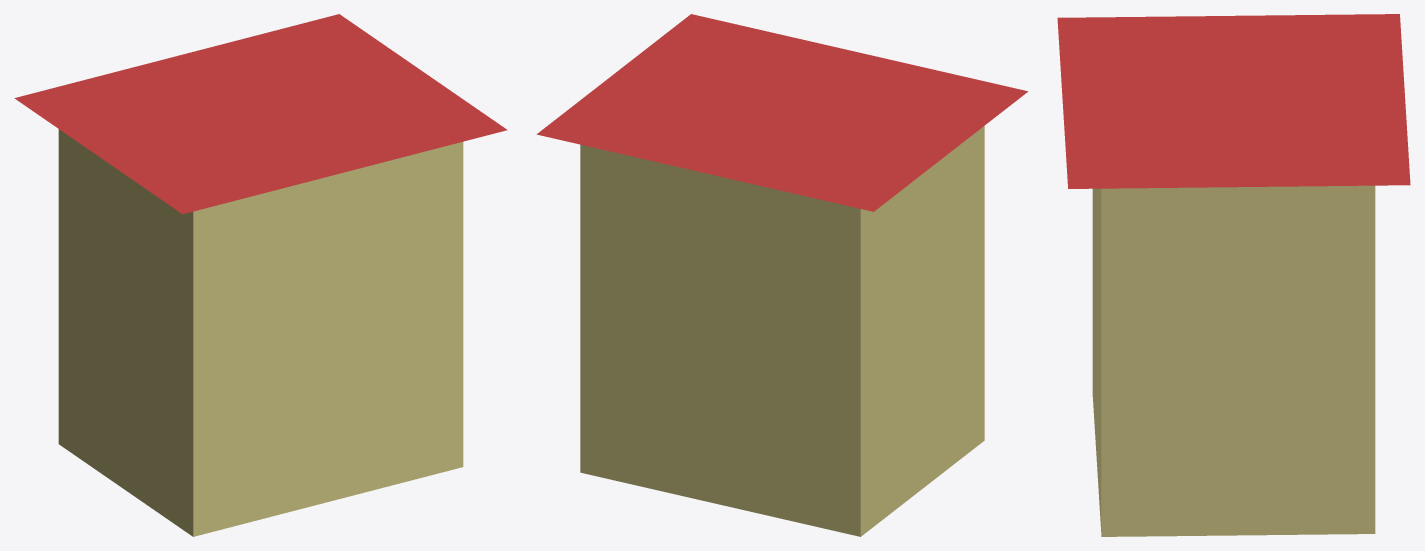
The picture shows the model from 3 angles, left to right: view 1: azimuth 30°, elevation 25°; view 2: azimuth 150°, elevation 25°; view 3: azimuth 270°, elevation 25°; orthographic projection. The views are drawn at different scales.
Size of the model in its own units: 6.03 by 5.14 by 5.83.
